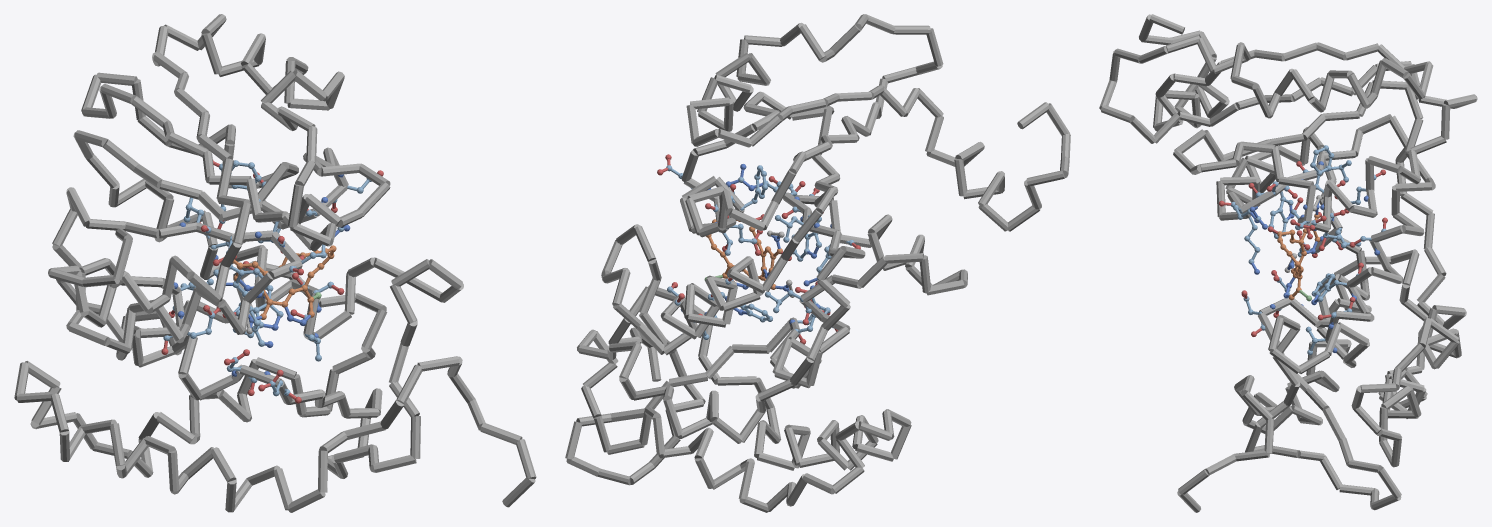
Rendered from CD38_HUMAN.glb.
The picture shows the model from 3 angles, left to right: view 1: azimuth 30°, elevation 25°; view 2: azimuth 150°, elevation 25°; view 3: azimuth 270°, elevation 25°; orthographic projection. The views are drawn at different scales.
Parts seen in each view (by area): view 1: backbone, pocket_residues, ligand; view 2: backbone, pocket_residues, ligand; view 3: backbone, pocket_residues, ligand.
Boxes of the visible parts, left/top/right/bottom form: backbone: left=14, top=14, right=536, bottom=512; pocket_residues: left=161, top=160, right=383, bottom=403; ligand: left=212, top=241, right=336, bottom=334; backbone: left=565, top=14, right=1070, bottom=512; pocket_residues: left=657, top=154, right=860, bottom=344; ligand: left=704, top=214, right=794, bottom=297; backbone: left=1099, top=14, right=1477, bottom=512; pocket_residues: left=1218, top=145, right=1387, bottom=355; ligand: left=1267, top=195, right=1321, bottom=301.
Bounding box in the file's own units: 50.32 × 48.1 × 40.56.
